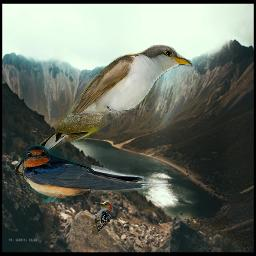Cuckoo: (11, 43, 197, 177)
Swallow: (19, 142, 168, 202)
Woodpecker: (91, 200, 116, 235)
